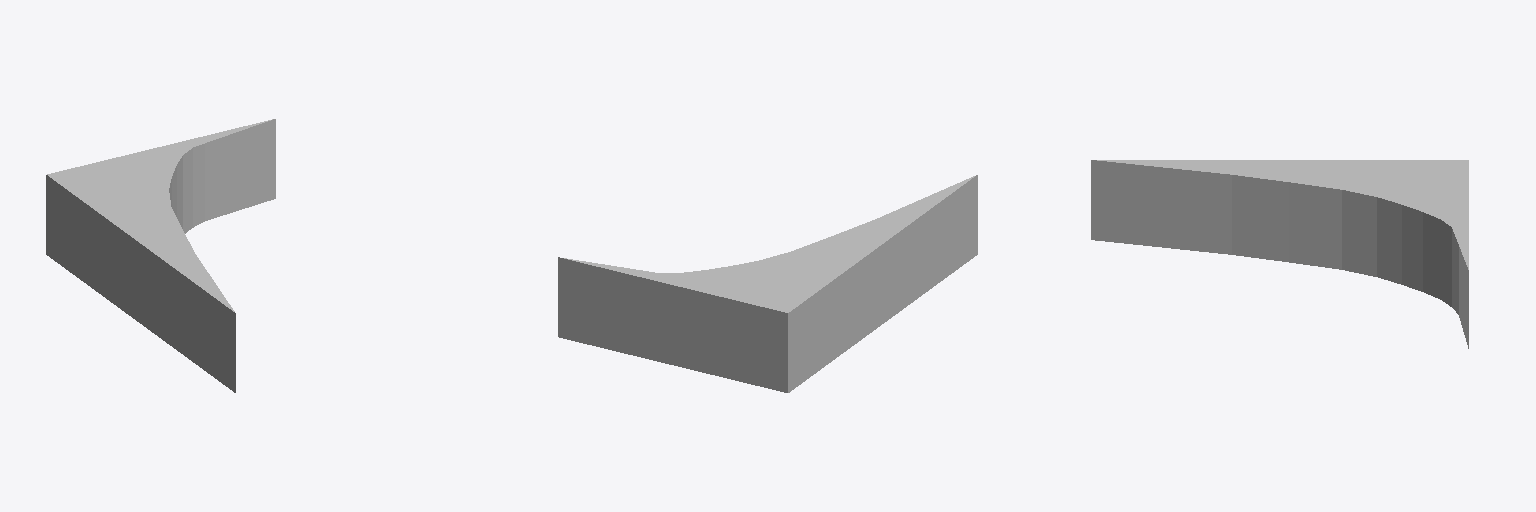
File: Arc.obj
3 renders of one model, left to right at view 1: azimuth 30°, elevation 25°; view 2: azimuth 150°, elevation 25°; view 3: azimuth 270°, elevation 25°, orthographic.
Visible parts, largest first — view 1: Cube; view 2: Cube; view 3: Cube.
Part boxes in pixels (x1,y1,x2,y2): Cube: (46,119,275,392); Cube: (558,175,977,392); Cube: (1091,160,1468,348).
Bounding box in the file's own units: 3 × 1 × 4.28.